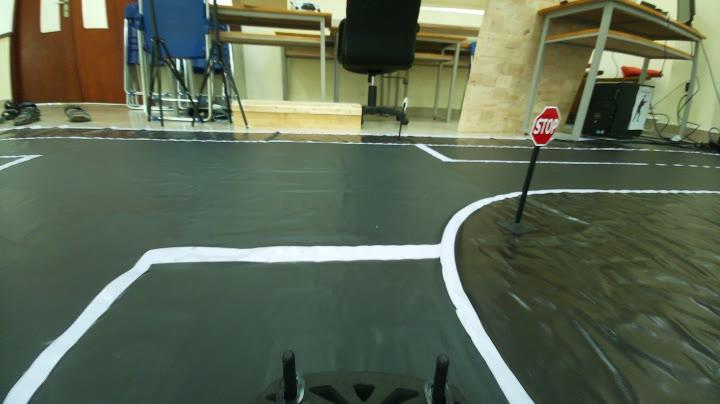stop: (528, 102, 566, 150)
